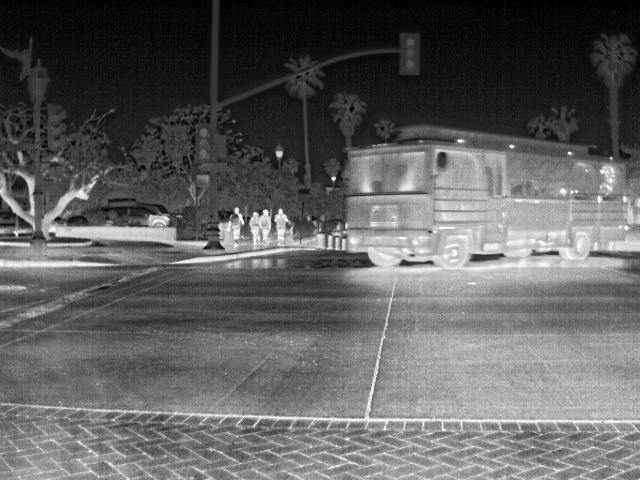car: (106, 205, 172, 230), (139, 200, 171, 216)
person: (274, 207, 294, 244), (230, 208, 247, 249), (261, 206, 274, 240), (249, 212, 262, 243)
